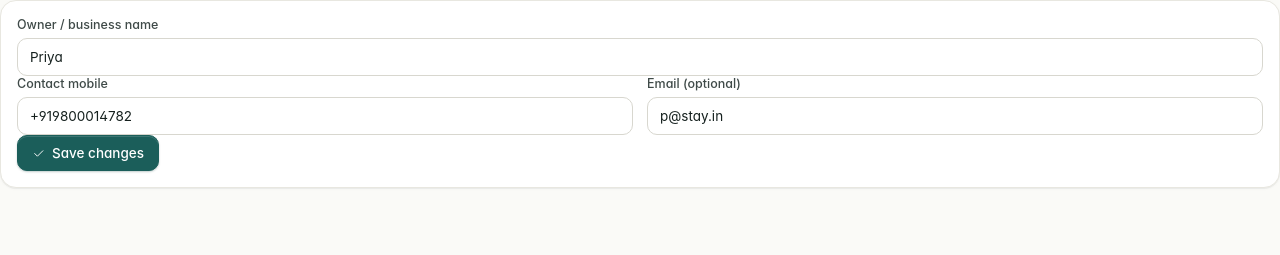
Scenario: AccountForm › submits edited values and shows the returned message
Replace the text in the field showing "Priya" below "Owner / business name" with "Priya R" at {"x": 640, "y": 57}, box x1=17 y1=38 x2=1263 y2=76
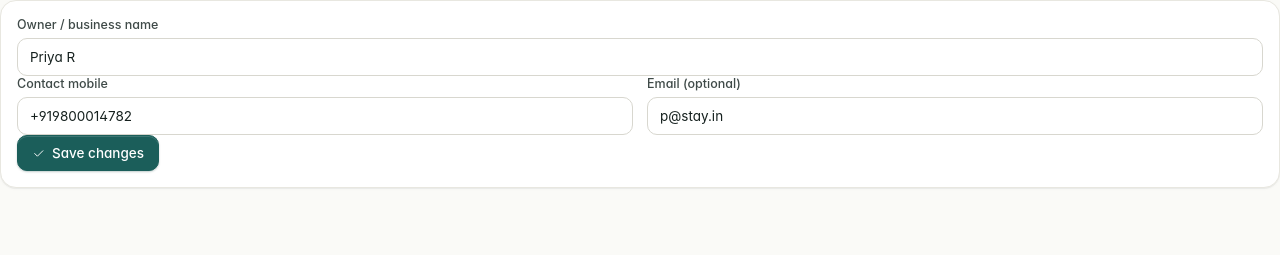
Click the button "Save changes" at {"x": 88, "y": 153}, box x1=17 y1=135 x2=159 y2=171
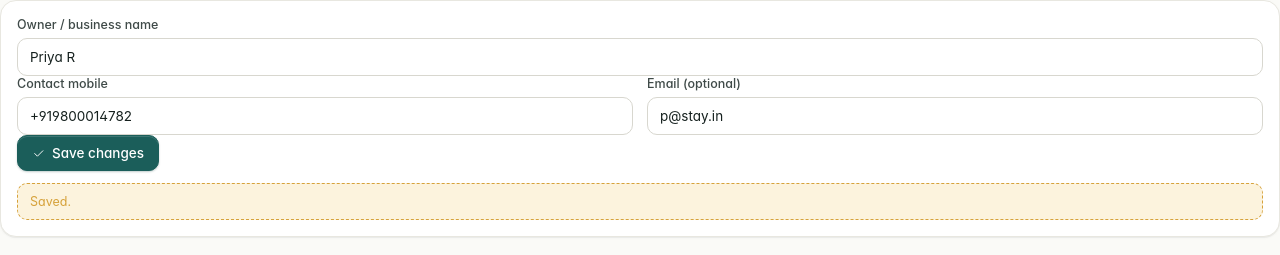
expect the text "Saved." is shown: met, box x1=17 y1=183 x2=1263 y2=220
